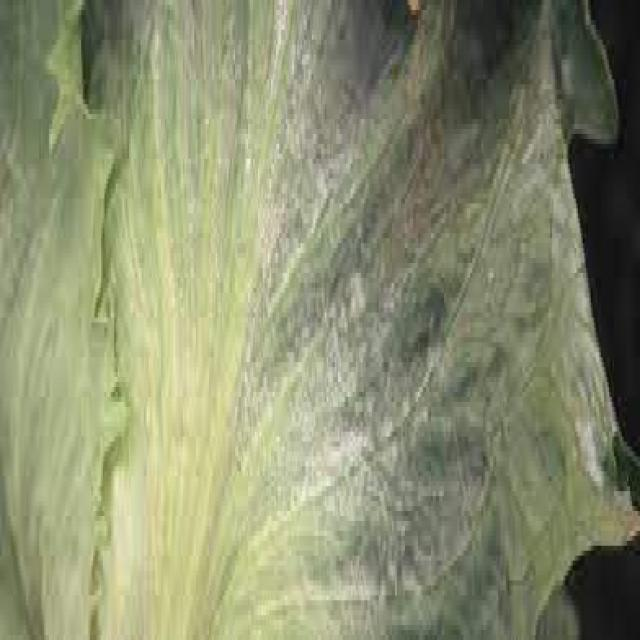Powdery_mildew_on_lettuce: (131, 34, 441, 624)
